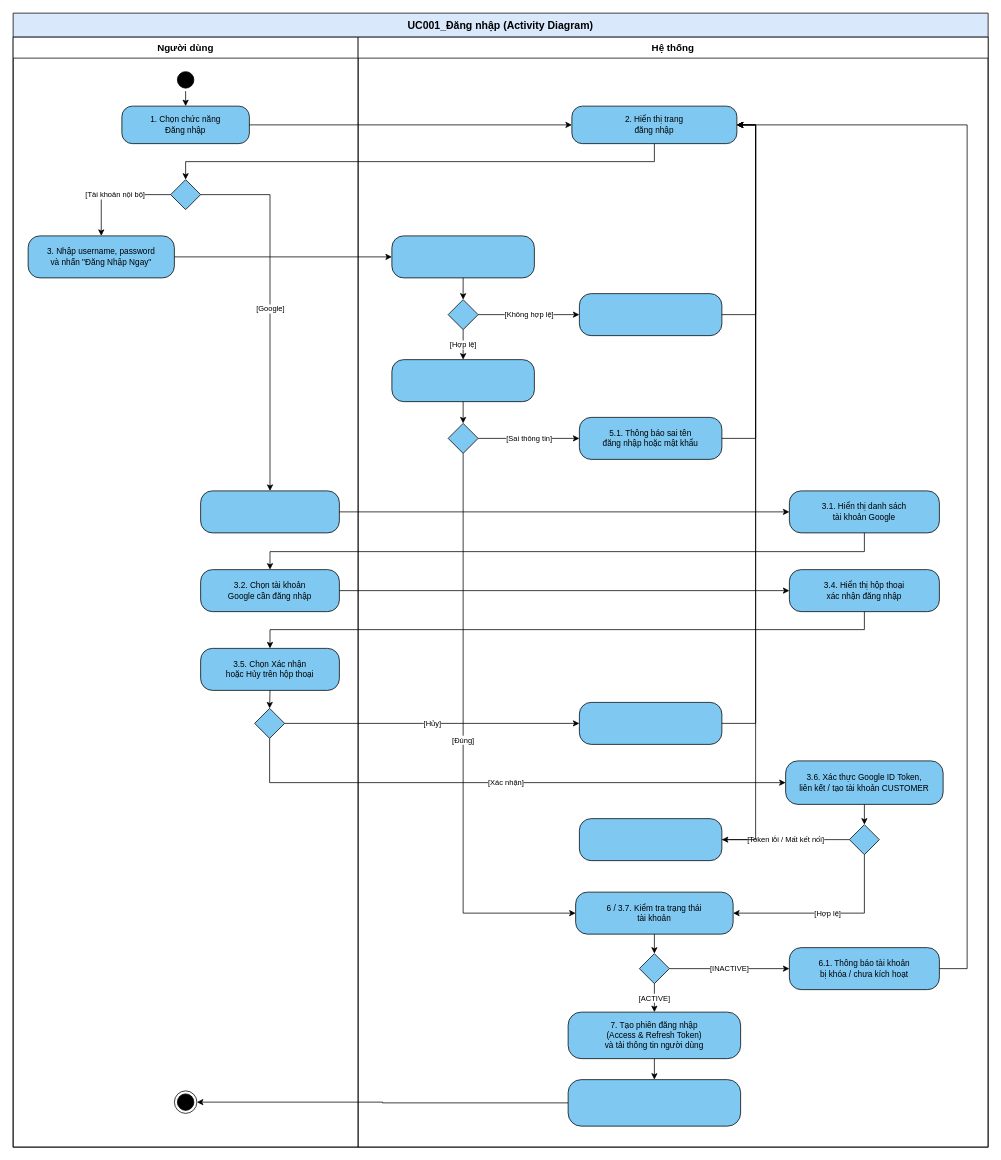
Some shapes in this 1001 by 1160 pixel diagram are drawn without their labels. Each missing label, with the centre of its shape:
3.1. Chọn "Đăng nhập bằng Google": point 269,511
3.5.1. Đóng hộp thoại, hủy token tạm: point 650,723
3.6.1. Thông báo lỗi xác thực hoặc mất kết nối: point 650,839
4. Kiểm tra tính hợp lệ dữ liệu nhập: point 462,256
4.1. Thông báo dữ liệu không hợp lệ: point 650,314
5. Xác thực tên đăng nhập và mật khẩu: point 462,380
8. Chuyển trang theo vai trò (ADMIN/STAFF -> Dashboard, CUSTOMER -> Trang chủ): point 654,1102
